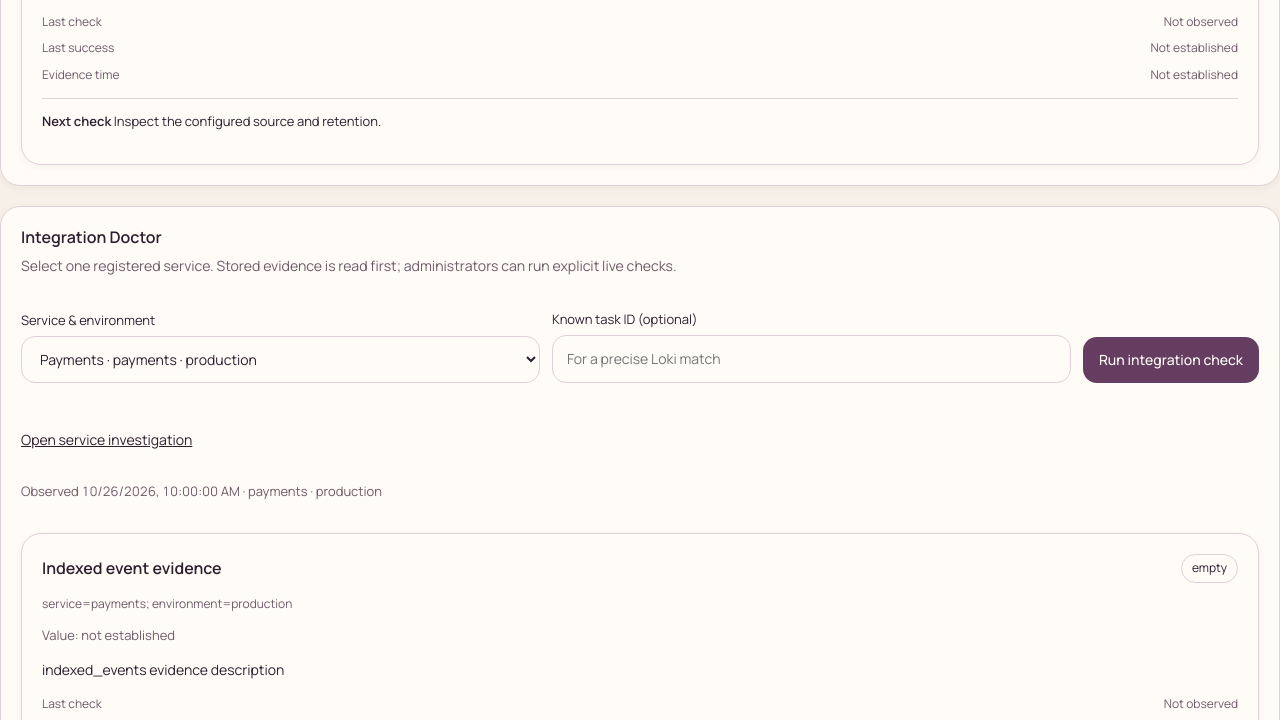
it: shows active probe failures (unstructured)
This screenshot has width=1280, height=720.
(page scrolled)
Expected: the text "indexed_events evidence description" is shown, [42, 660, 284, 679]
Click the button "Run integration check" at (1171, 360), box [1083, 337, 1259, 383]
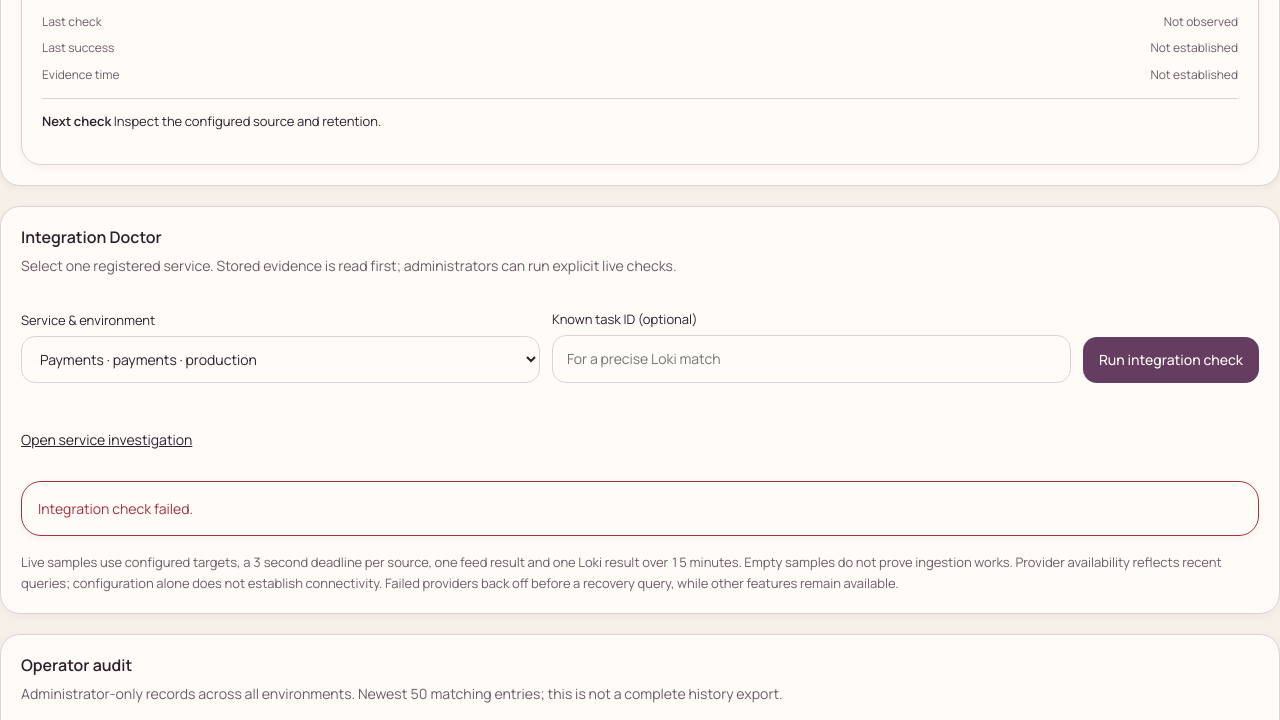
Expected: the text "Integration check failed." is shown, [21, 481, 1259, 536]
